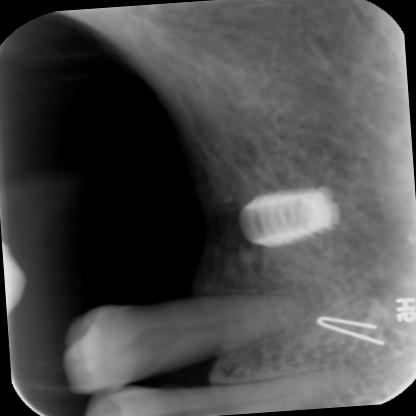Bicon: (234, 183, 346, 252)
